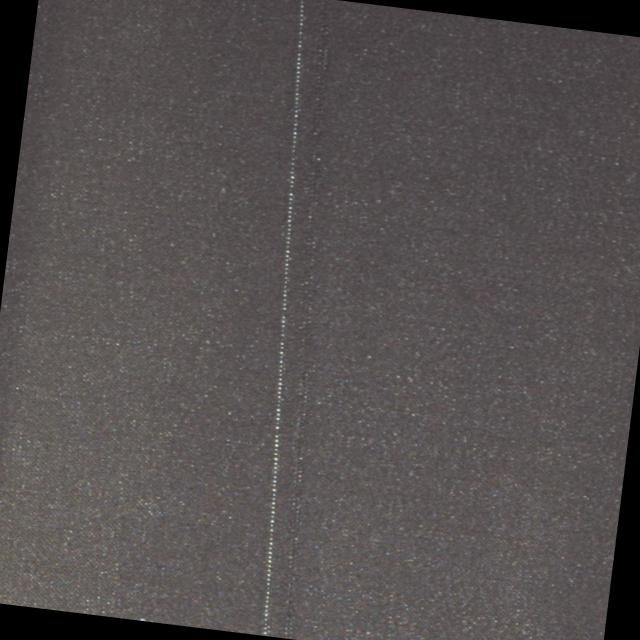Warp_Weft: (210, 0, 355, 637)
